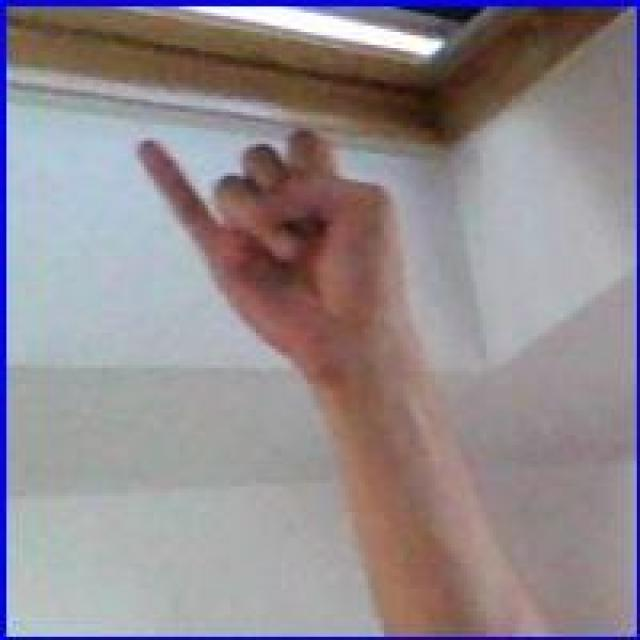J: (126, 120, 440, 389)
